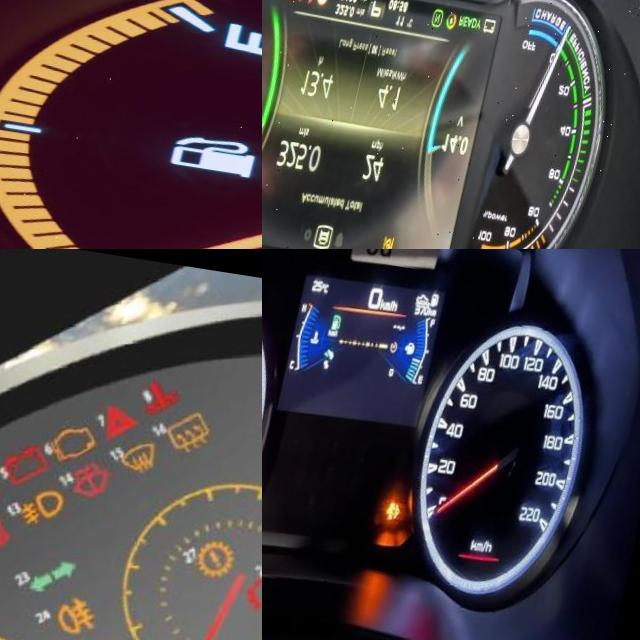Engine cooling system: (130, 355, 191, 412)
Low fuel level: (0, 495, 29, 552)
